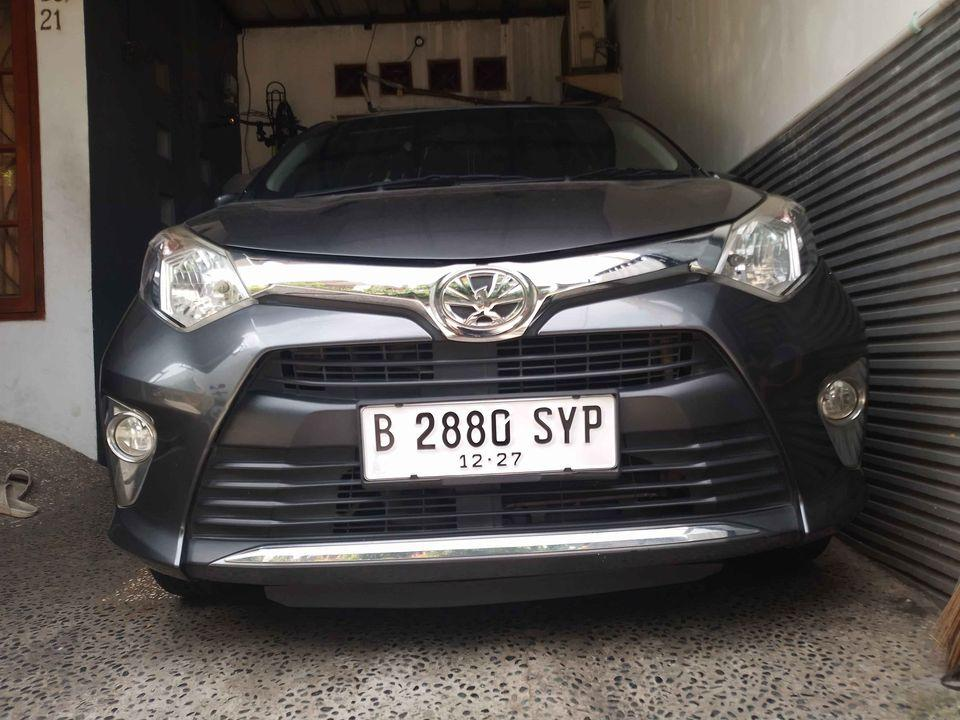plat nomor: (359, 391, 619, 485)
